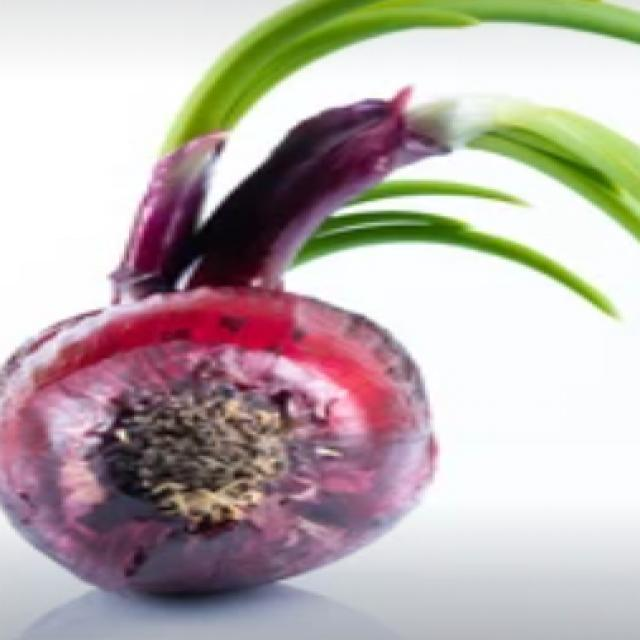sprouting: (149, 15, 471, 279)
